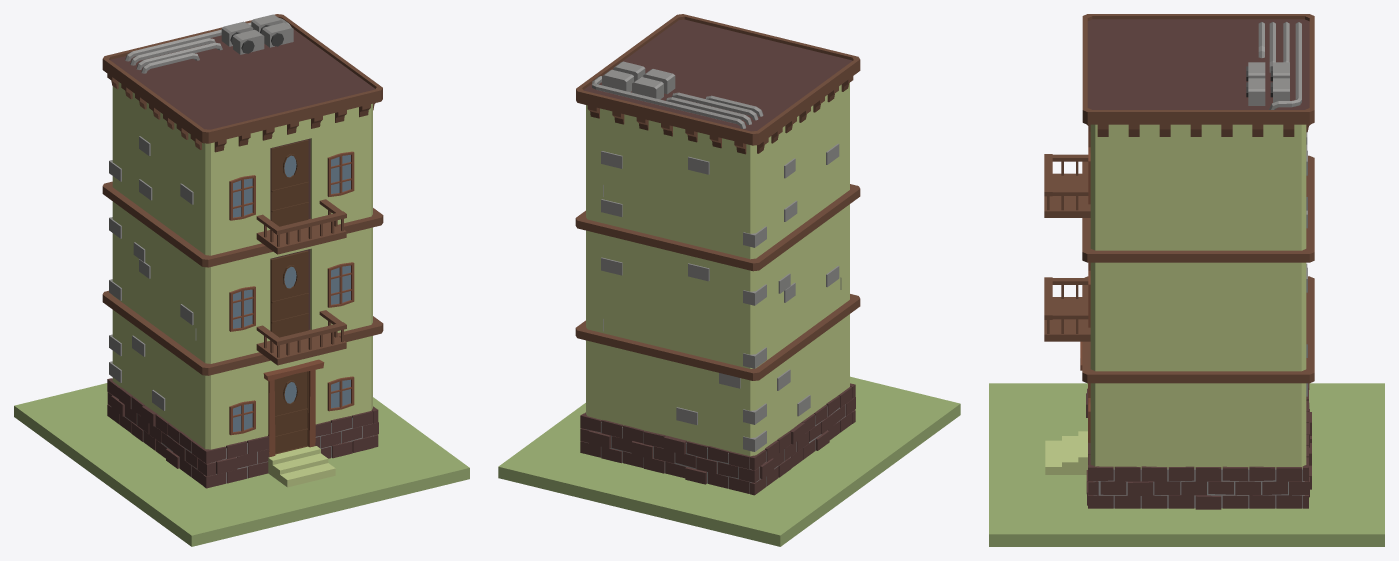
The model's file is 3.bina 1.fbx.
3 renders of one model, left to right at view 1: azimuth 30°, elevation 25°; view 2: azimuth 150°, elevation 25°; view 3: azimuth 270°, elevation 25°, orthographic. The views are drawn at different scales.
Visible parts, largest first — view 1: 3Story_Balcony_Mat, Cube; view 2: 3Story_Balcony_Mat, Cube; view 3: 3Story_Balcony_Mat, Cube.
Boxes of the visible parts, left/top/right/bottom form: 3Story_Balcony_Mat: left=102, top=14, right=383, bottom=488; Cube: left=14, top=383, right=469, bottom=546; 3Story_Balcony_Mat: left=575, top=14, right=860, bottom=495; Cube: left=498, top=376, right=960, bottom=546; 3Story_Balcony_Mat: left=1044, top=14, right=1314, bottom=509; Cube: left=989, top=383, right=1384, bottom=546.
Size of the model in its own units: 332 by 434 by 367.
